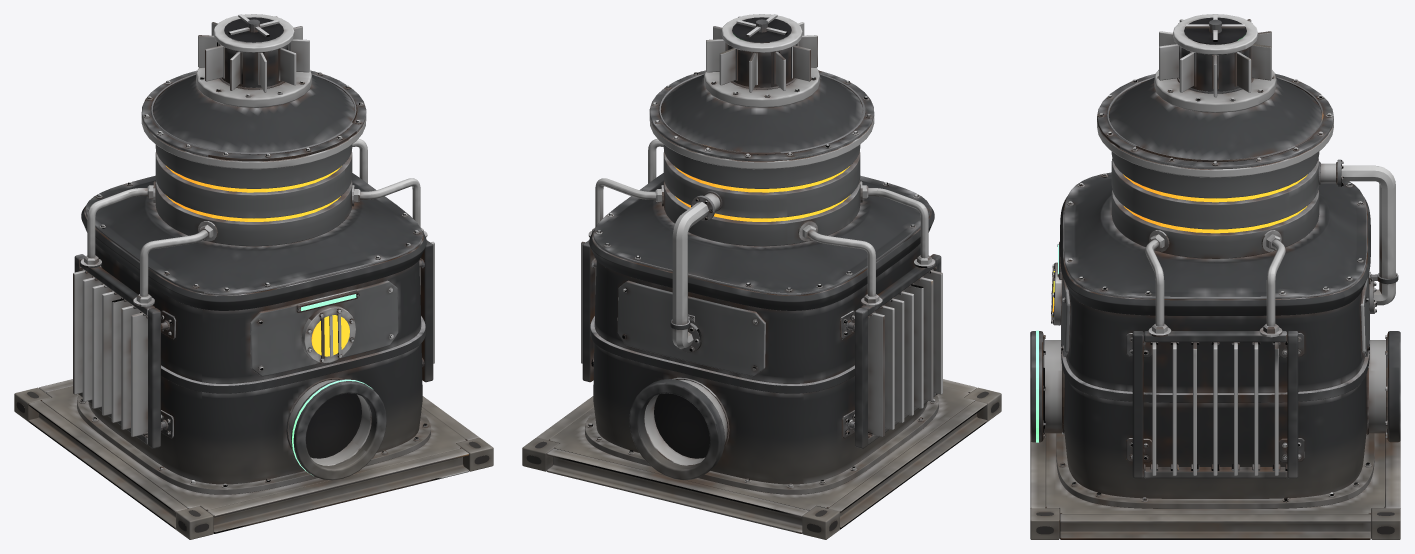
The model's file is SM_Smelter.glb.
The picture shows the model from 3 angles, left to right: view 1: azimuth 30°, elevation 25°; view 2: azimuth 150°, elevation 25°; view 3: azimuth 270°, elevation 25°; orthographic projection. The views are drawn at different scales.
Parts seen in each view (by area): view 1: SM_Smelter; view 2: SM_Smelter; view 3: SM_Smelter, SM_Smelter_Fan.
Part boxes in pixels (left/top/right/bottom): SM_Smelter: left=14, top=14, right=493, bottom=539; SM_Smelter: left=522, top=14, right=1001, bottom=539; SM_Smelter: left=1030, top=14, right=1400, bottom=539; SM_Smelter_Fan: left=1186, top=14, right=1244, bottom=41.
Size of the model in its own units: 2 by 2.62 by 2.
Materials: 7 (5 with a texture image).
